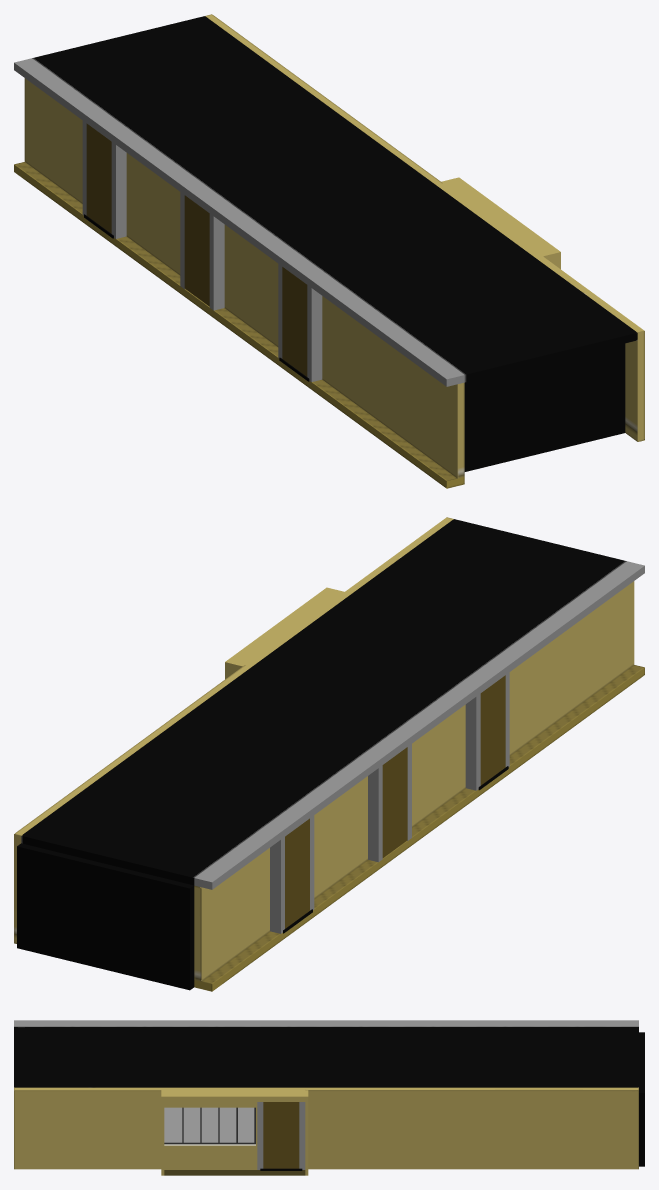
File: corridor_tutorial_map.fbx
3 views of the same model, one above another, from view 1: azimuth 30°, elevation 25°; view 2: azimuth 150°, elevation 25°; view 3: azimuth 270°, elevation 25° (orthographic). The views are drawn at different scales.
Parts seen in each view (by area): view 1: ceil_base, area_stair_block, wall_4, up_wall, down_wall, wall_1_1, wall_3, wall_2_1, wall_2, left_ceil, door_base_1, door_base (+5 smaller); view 2: ceil_base, back_block, up_wall, wall_4, down_wall, wall_1_1, wall_3, wall_2_1, left_ceil, door_base_1, door_base_2, door_base (+5 smaller); view 3: ceil_base, wall_1, wall_2, up_wall, door_base_3, down_wall_1, left_ceil, left_floor, back_block, window_5, window_2, window_3 (+8 smaller).
Boxes of the visible parts, left/top/right/bottom form: ceil_base: left=32, top=16, right=637, bottom=382; area_stair_block: left=464, top=343, right=625, bottom=471; wall_4: left=322, top=296, right=464, bottom=478; up_wall: left=14, top=58, right=464, bottom=386; down_wall: left=14, top=162, right=464, bottom=488; wall_1_1: left=24, top=78, right=82, bottom=203; wall_3: left=224, top=224, right=278, bottom=346; wall_2_1: left=126, top=153, right=180, bottom=275; wall_2: left=534, top=255, right=644, bottom=441; left_ceil: left=436, top=179, right=558, bottom=256; door_base_1: left=184, top=195, right=209, bottom=306; door_base: left=86, top=123, right=111, bottom=233; ceil_base: left=21, top=519, right=626, bottom=885; back_block: left=17, top=843, right=194, bottom=990; up_wall: left=194, top=561, right=644, bottom=889; wall_4: left=509, top=581, right=634, bottom=755; down_wall: left=194, top=665, right=644, bottom=991; wall_1_1: left=194, top=848, right=269, bottom=981; wall_3: left=412, top=704, right=465, bottom=826; wall_2_1: left=314, top=776, right=367, bottom=898; left_ceil: left=227, top=589, right=349, bottom=666; door_base_1: left=382, top=747, right=407, bottom=857; door_base_2: left=480, top=675, right=505, bottom=785; door_base: left=285, top=818, right=309, bottom=928; ceil_base: left=14, top=1026, right=638, bottom=1087; wall_1: left=305, top=1087, right=638, bottom=1169; wall_2: left=14, top=1087, right=164, bottom=1169; up_wall: left=14, top=1020, right=638, bottom=1026; door_base_3: left=263, top=1102, right=299, bottom=1168; down_wall_1: left=164, top=1144, right=257, bottom=1169; left_ceil: left=164, top=1087, right=305, bottom=1101; left_floor: left=164, top=1170, right=305, bottom=1175; back_block: left=639, top=1032, right=644, bottom=1166; window_5: left=164, top=1107, right=182, bottom=1142; window_2: left=219, top=1107, right=236, bottom=1142; window_3: left=201, top=1107, right=218, bottom=1142.
Bounding box in the file's own units: 378 × 184 × 1312.
